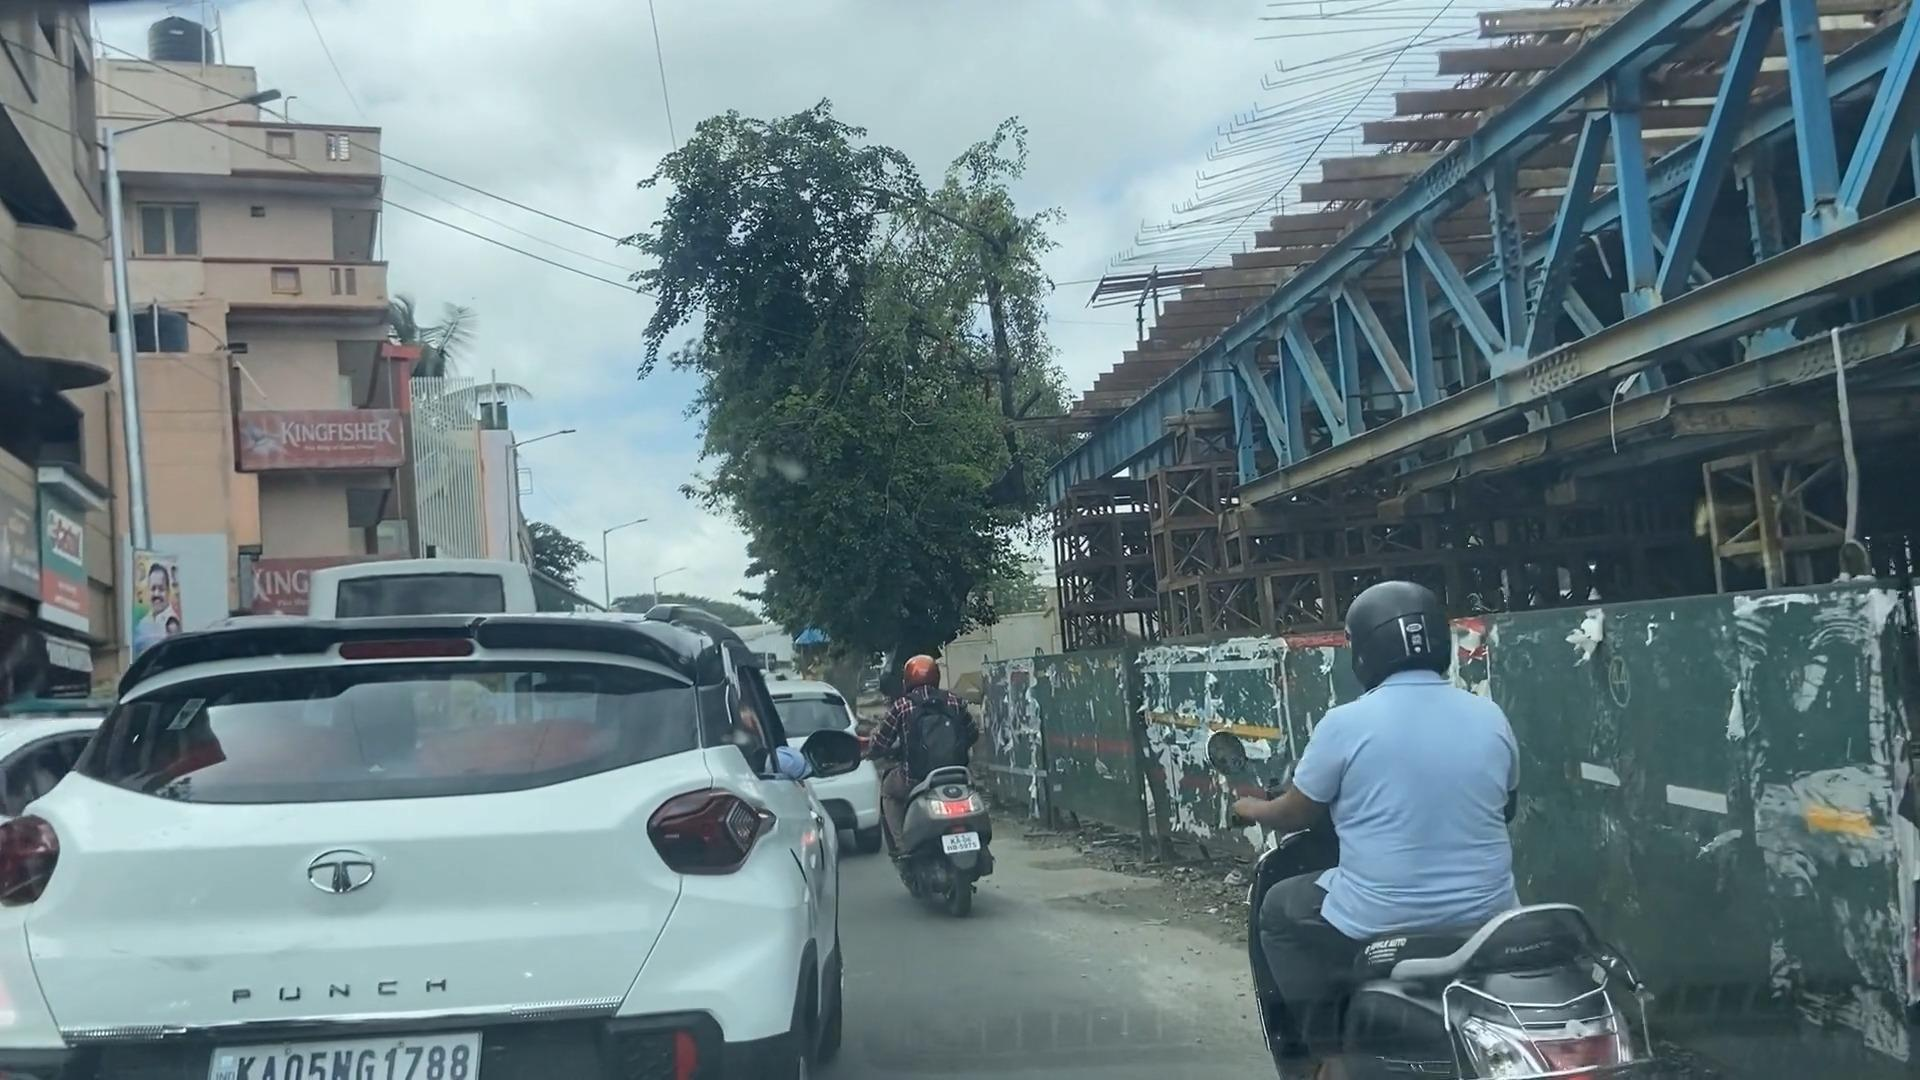LMV: (17, 638, 750, 1080), (1273, 616, 1557, 1080), (890, 651, 971, 910)
